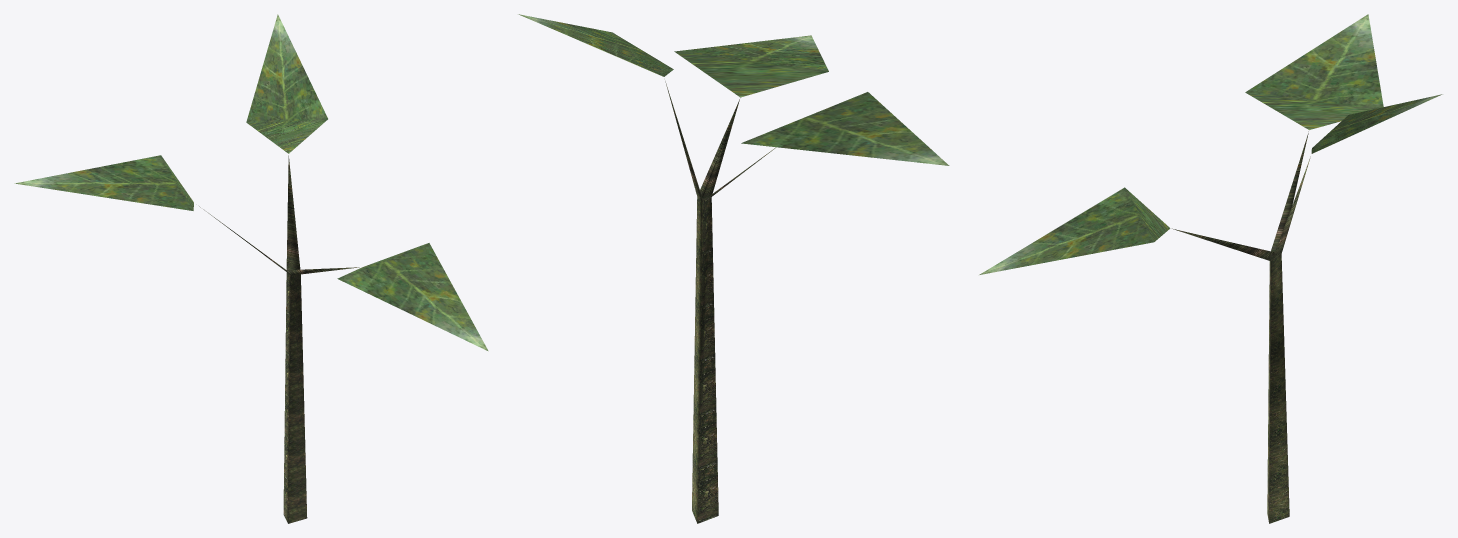
File: leaf_smallflora_l2.fbx
3 views of the same model, side by side, from view 1: azimuth 30°, elevation 25°; view 2: azimuth 150°, elevation 25°; view 3: azimuth 270°, elevation 25° (orthographic). The views are drawn at different scales.
Parts seen in each view (by area): view 1: mesh_node; view 2: mesh_node; view 3: mesh_node.
Boxes of the visible parts, x1,y1,x2,y2 form: mesh_node: (14,14,488,523); mesh_node: (518,14,949,523); mesh_node: (979,14,1442,523).
Size of the model in its own units: 0.859 by 1.13 by 1.04.
Materials: 2 (2 with a texture image).
